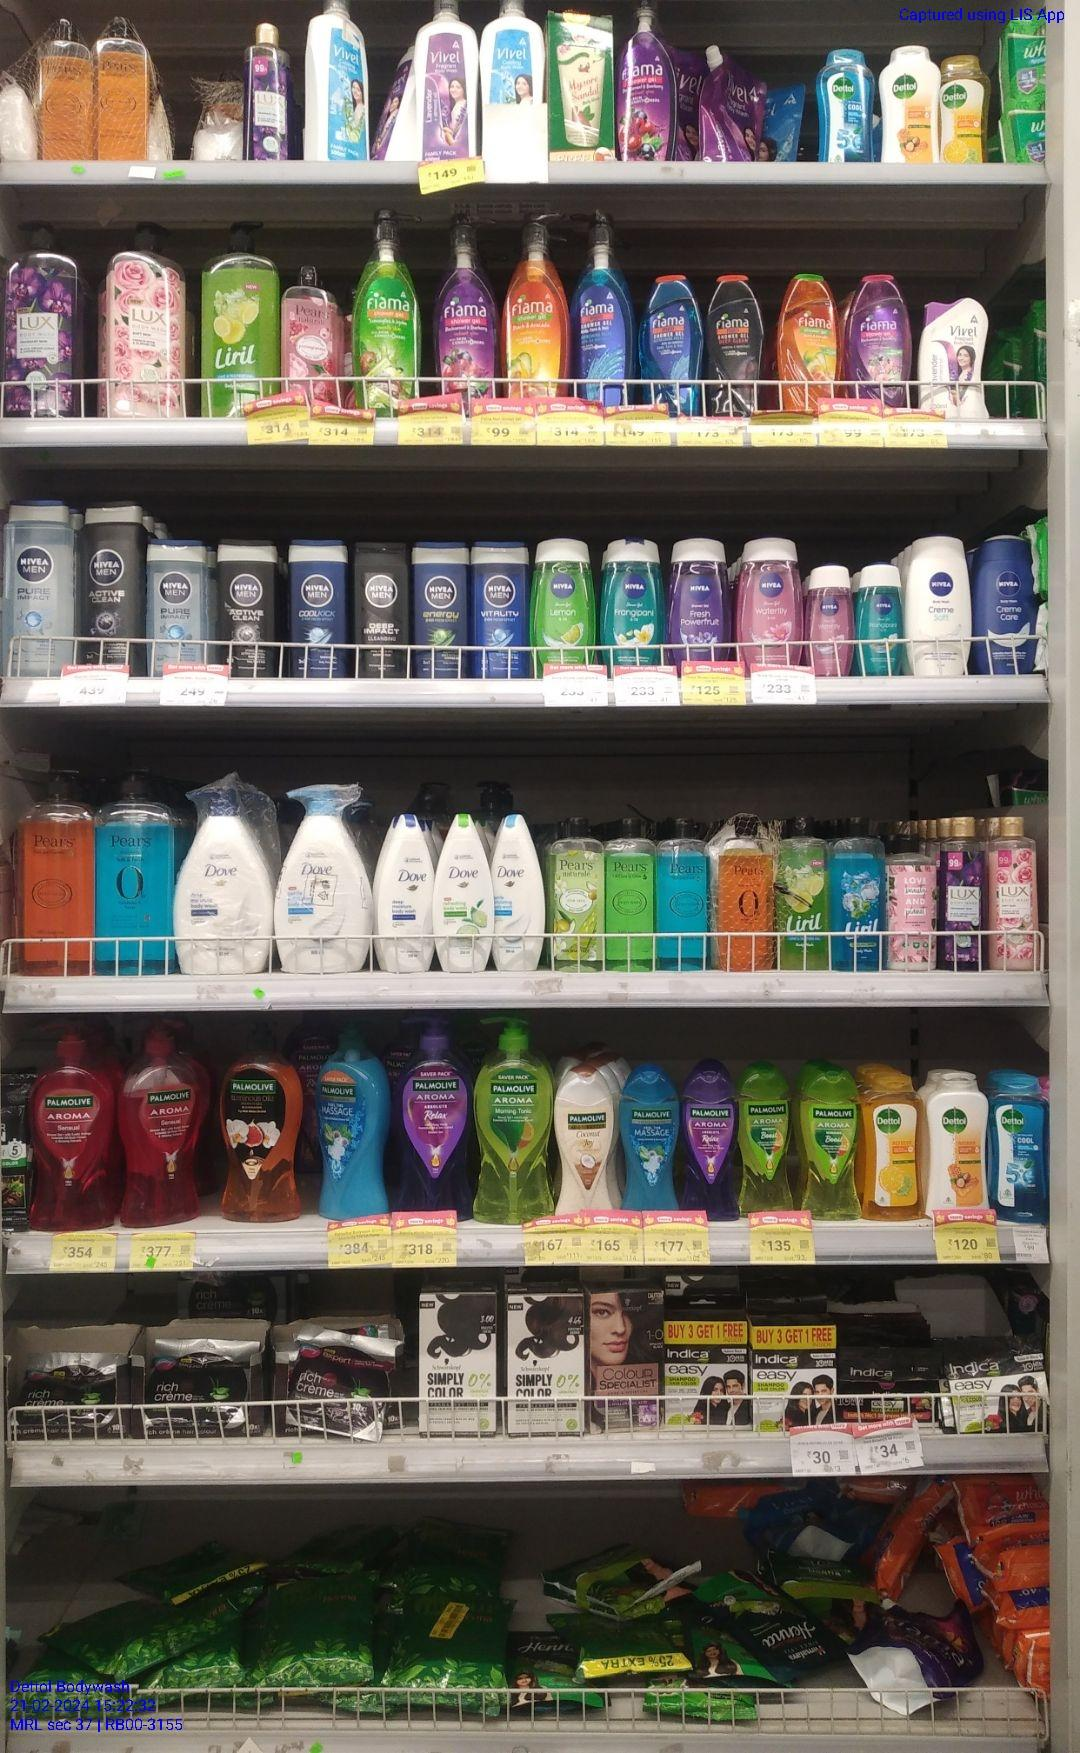Dettol_Bodywash_Cool: (990, 1073, 1049, 1225), (815, 46, 877, 163)
Dettol_Bodywash_Refresh: (861, 1072, 924, 1222), (940, 53, 994, 163)
Dettol_Nourish_Body_Wash_250ML: (924, 1071, 990, 1208), (879, 43, 940, 162)
Dove_Deep_Moisture_Body_Wash_250ML: (375, 810, 433, 972)
Dove_Gentle_Exfoliating_Body_Wash_250ML: (493, 811, 547, 972)
Dove_Refreshing_Body_Wash_250ML: (433, 811, 494, 972)
Fiama_Shower_Gel_Peach_and_Avocado_250ML: (775, 272, 840, 412)
Liril_Cooling_Mint_Body_Wash_250ML: (830, 816, 885, 972)
Liril_Lime_and_Tea_Tree_Oil_Body_Wash_250ML: (773, 815, 830, 969)
Lux_Black_Orchid_Scent_and_Juniper_Oil_Body_Wash_245ML: (937, 814, 984, 972), (243, 20, 290, 159)
Nivea_Creme_Care_Body_Wash_250ML: (972, 533, 1034, 675)
Nivea_Creme_Soft_Body_Wash_250ML: (902, 532, 972, 677)
Nivea_Shower_Gel_Frangipani_and_Oil_250ML: (597, 536, 665, 664)
Nivea_Shower_Gel_Fresh_Powerfruit_250ML: (735, 535, 806, 662), (665, 535, 731, 662)
Nivea_Shower_Gel_Lemon_and_Oil_250ML: (531, 536, 597, 662)
Palmolive_Aroma_Moments_Feel_The_Massage_Shower_Gel_250ML: (618, 1062, 681, 1210)
Palmolive_Aroma_Morning_Tonic_Shower_Gel_250ML: (796, 1066, 861, 1221), (737, 1063, 795, 1212)
Palmolive_Aroma_Relax_250ML: (680, 1059, 737, 1210)
Palmolive_Coconut_Joy_Exfoliating_Body_Wash_250ML: (552, 1064, 616, 1212)
Pears_Naturale_Aloe_Vera_Body_Wash_250ML: (548, 816, 604, 970)
Pears_Pure_Glycerin_and_Lemon_Flower_Extracts_Body_Wash_250ML: (603, 816, 656, 972)
Pears_Pure_Glycerin_and_Mint_Extracts_Body_Wash_250ML: (656, 818, 707, 972)
